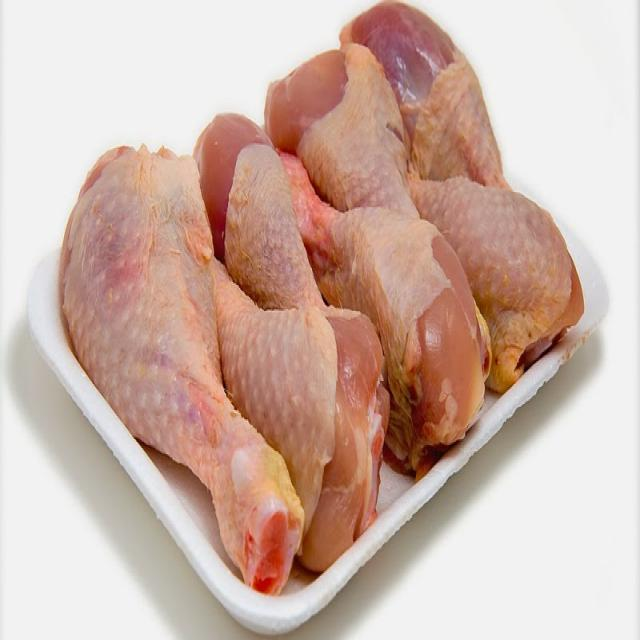Chicken: (62, 8, 584, 595), (61, 150, 292, 594), (274, 136, 480, 451), (271, 52, 415, 219)
